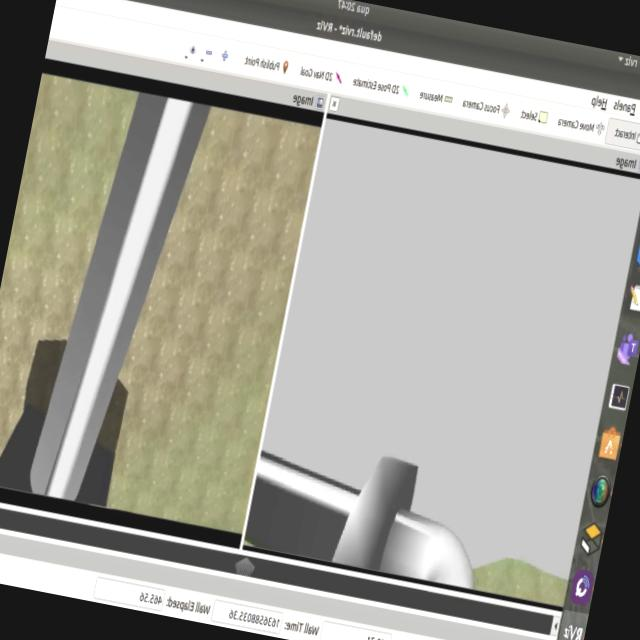gas: (30, 98, 205, 494), (244, 453, 475, 591)
